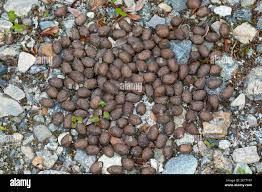Elk: (54, 36, 192, 153)
